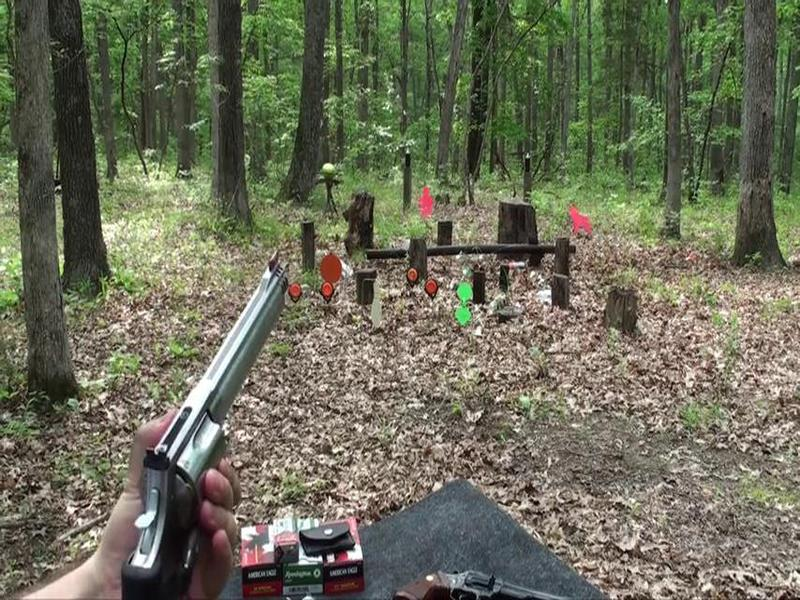Revolver: (127, 239, 306, 595)
